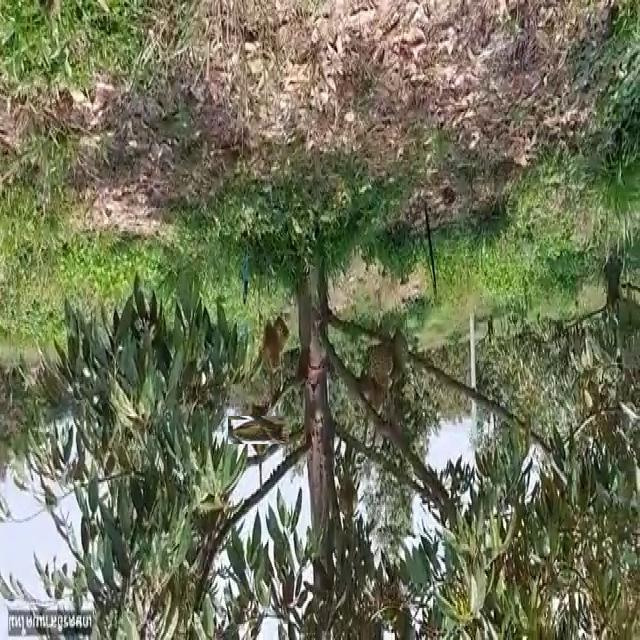durian: (236, 408, 281, 452), (258, 315, 285, 380), (386, 324, 409, 386)
